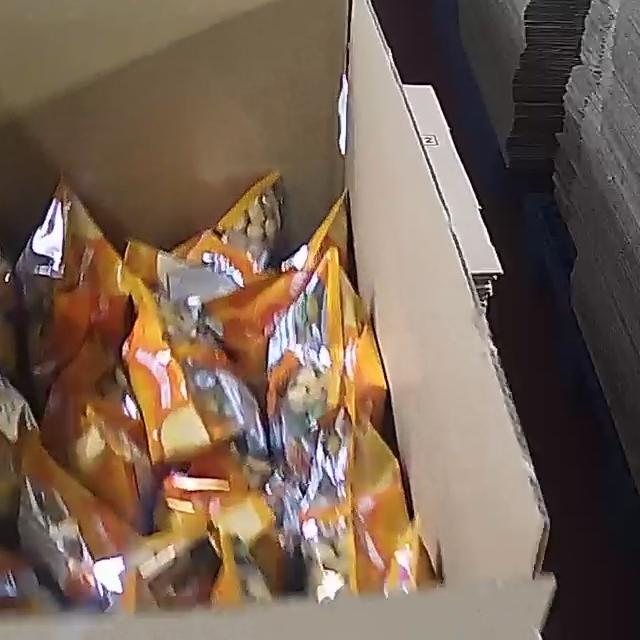cheese: (0, 161, 423, 609)
